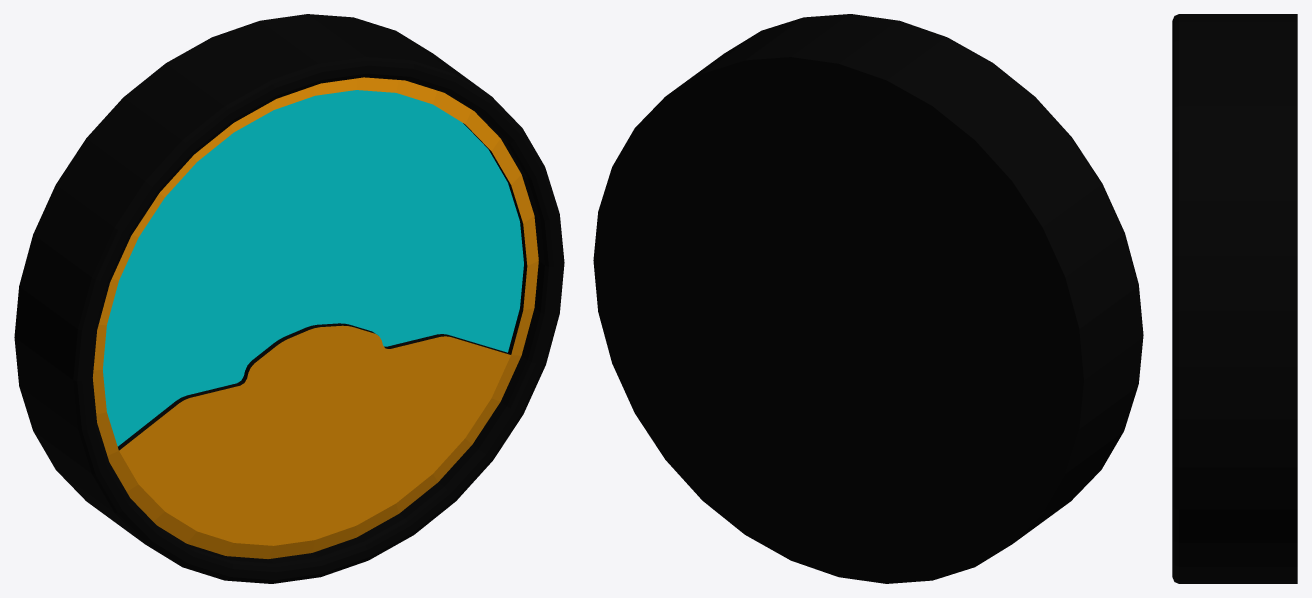
Rendered from Gauge 1.fbx.
3 views of the same model, side by side, from view 1: azimuth 30°, elevation 25°; view 2: azimuth 150°, elevation 25°; view 3: azimuth 270°, elevation 25° (orthographic).
Parts seen in each view (by area): view 1: Cylinder; view 2: Cylinder; view 3: Cylinder.
Part boxes in pixels (x1,y1,x2,y2): Cylinder: [14, 14, 564, 583]; Cylinder: [593, 14, 1143, 583]; Cylinder: [1172, 14, 1297, 583].
Size of the model in its own units: 766 by 766 by 168.
